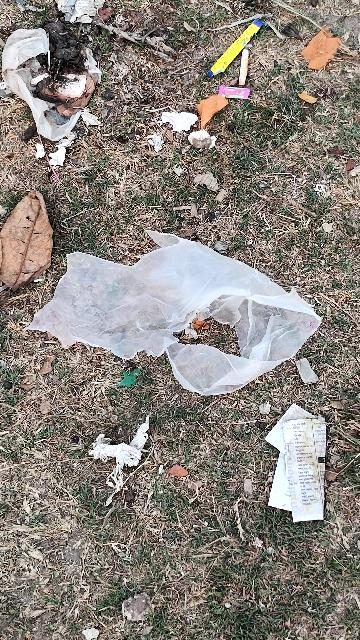polythene: (33, 212, 311, 417)
